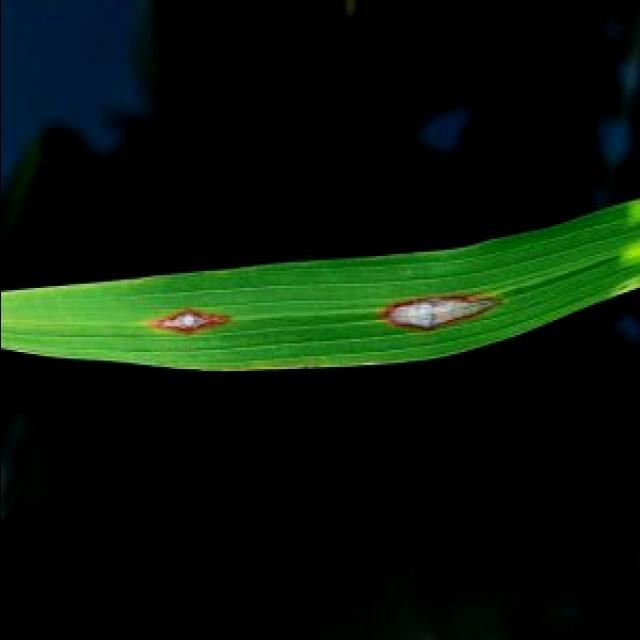Brown_Spot: (361, 285, 512, 341), (130, 296, 243, 341)
